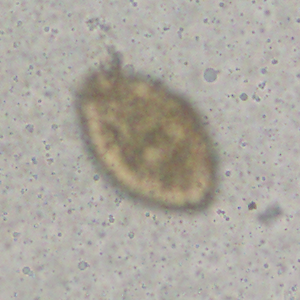Fasciola_hepatica_egg: (78, 65, 217, 215)
